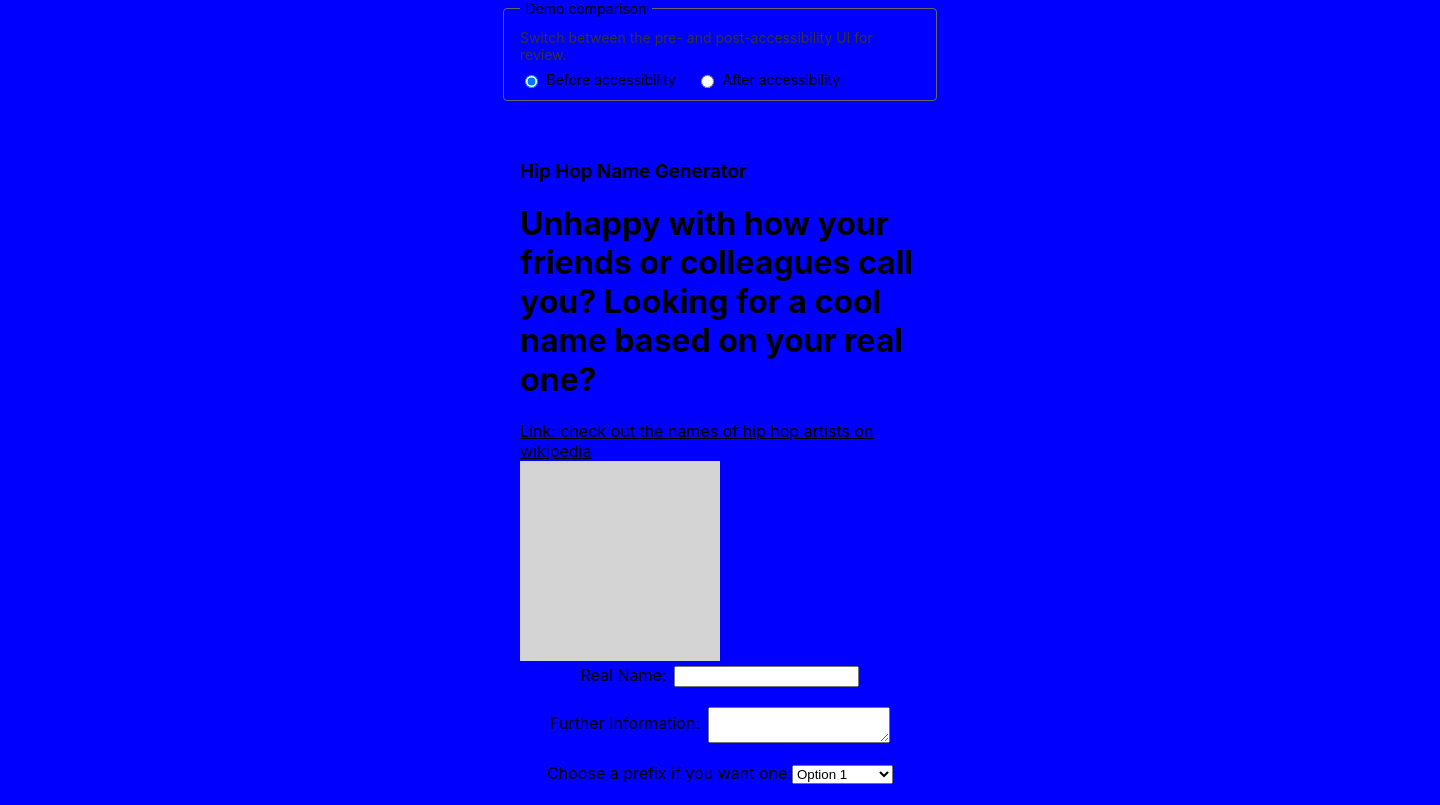
Scenario: accessibility comparison mode › selecting after restores the current accessible variant
Step 1. Click the radio button labelled "After accessibility" → x=707, y=81, box x1=701 y1=74 x2=714 y2=88
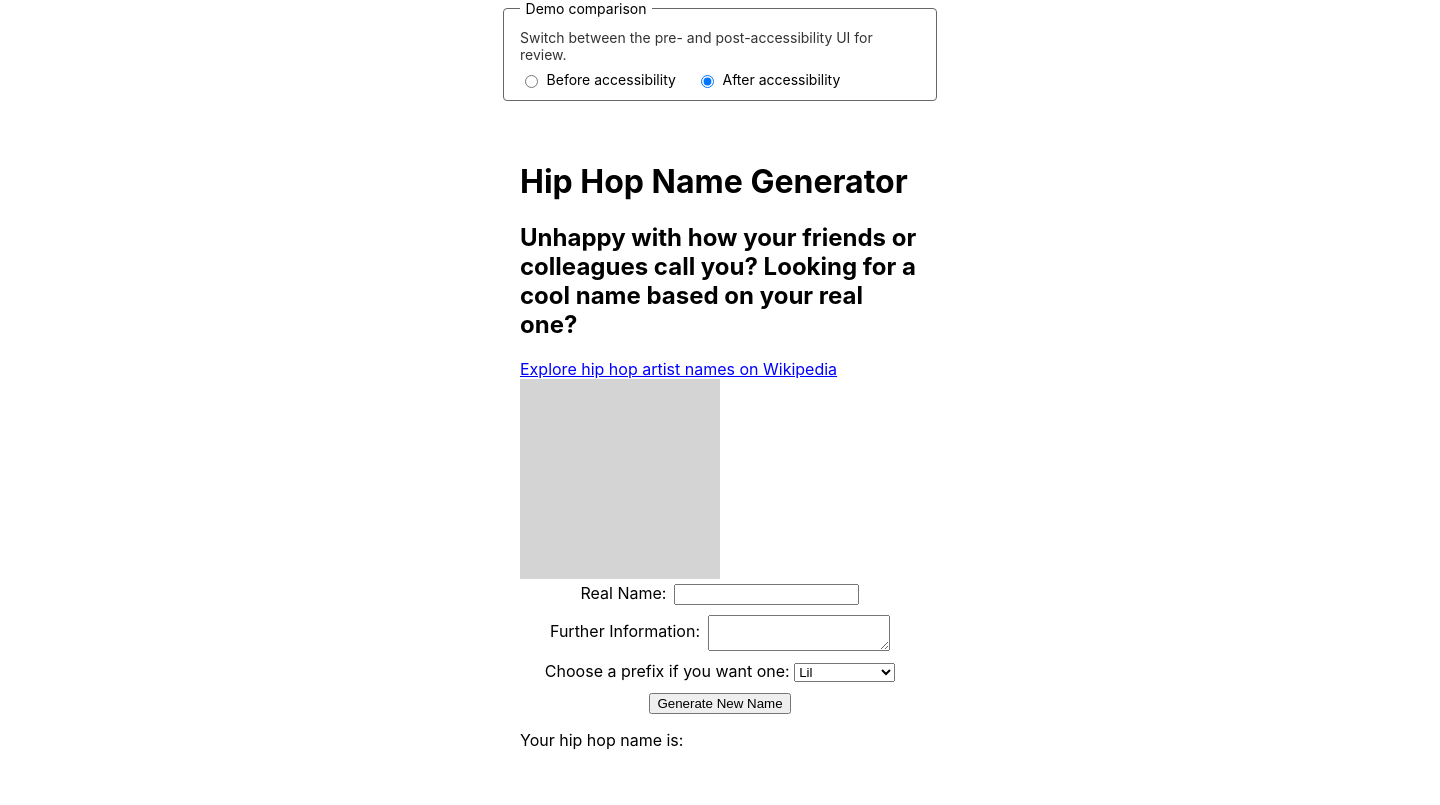
Expected: the heading "Hip Hop Name Generator" is shown, x1=520 y1=162 x2=920 y2=201
Expected: the link "Explore hip hop artist names on Wikipedia" is shown, x1=520 y1=359 x2=837 y2=379
Expected: the field labelled "Real Name:" is shown, x1=674 y1=584 x2=860 y2=605
